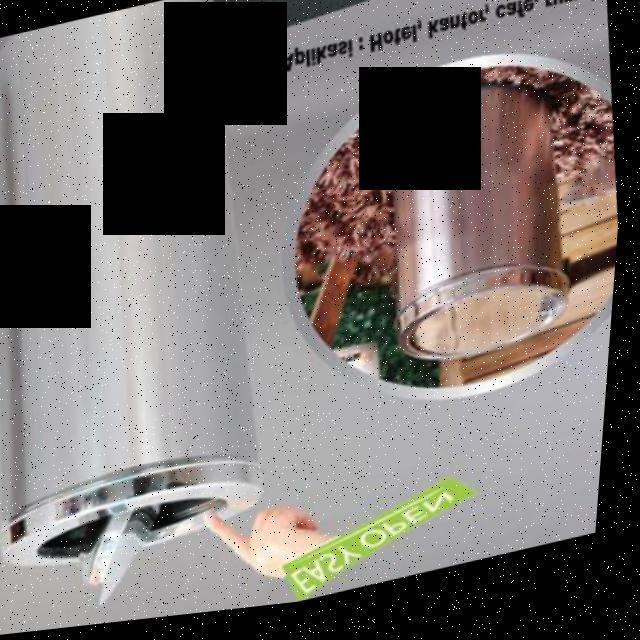bin: (0, 0, 320, 640), (333, 37, 635, 415)
